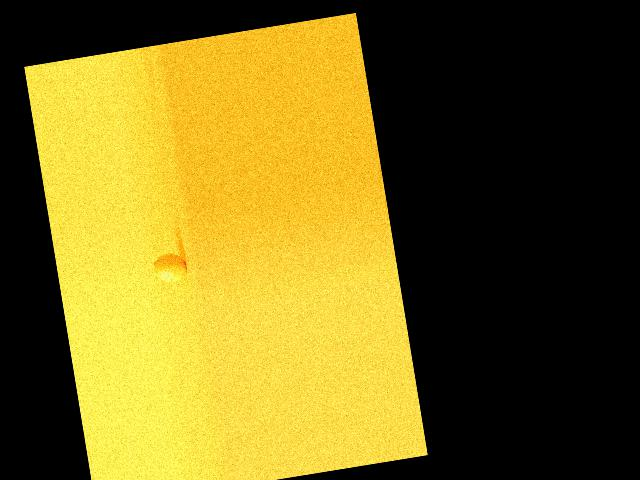lemon: (148, 248, 190, 293)
